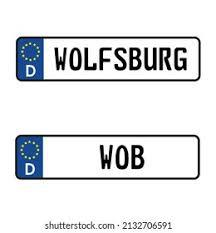B: (130, 143, 146, 170), (129, 46, 143, 71)
F: (98, 45, 112, 71)
G: (173, 46, 188, 71)
L: (82, 46, 97, 70)
O: (114, 144, 129, 170), (69, 46, 83, 71)
R: (157, 46, 172, 71)
S: (114, 46, 127, 71)
U: (144, 46, 158, 71)
W: (97, 143, 114, 169), (53, 46, 68, 71)
